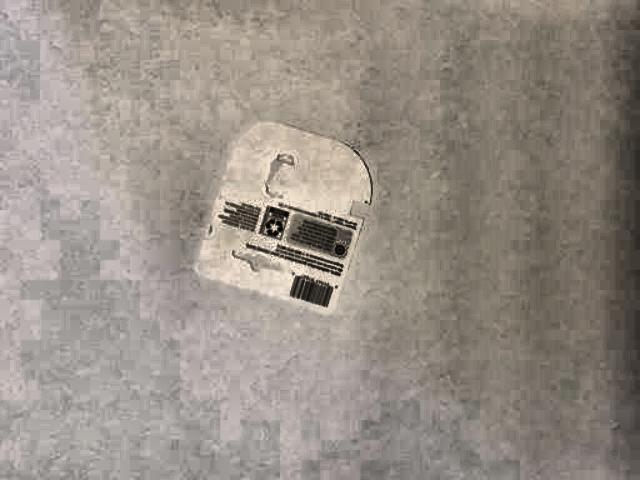Paper: (180, 114, 389, 337)
